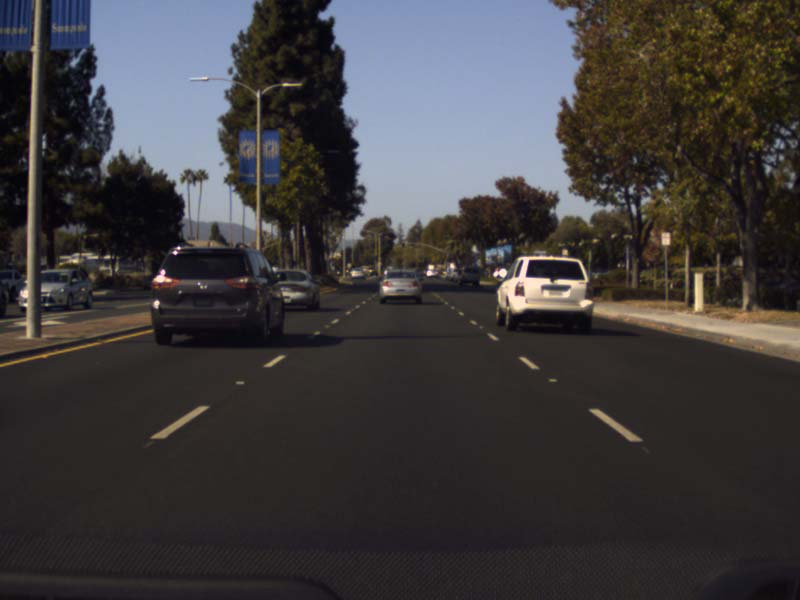Red: (400, 240, 404, 247)
